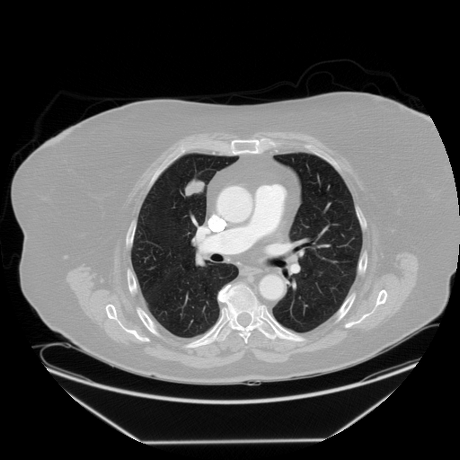nodule: (186, 180, 202, 196)
